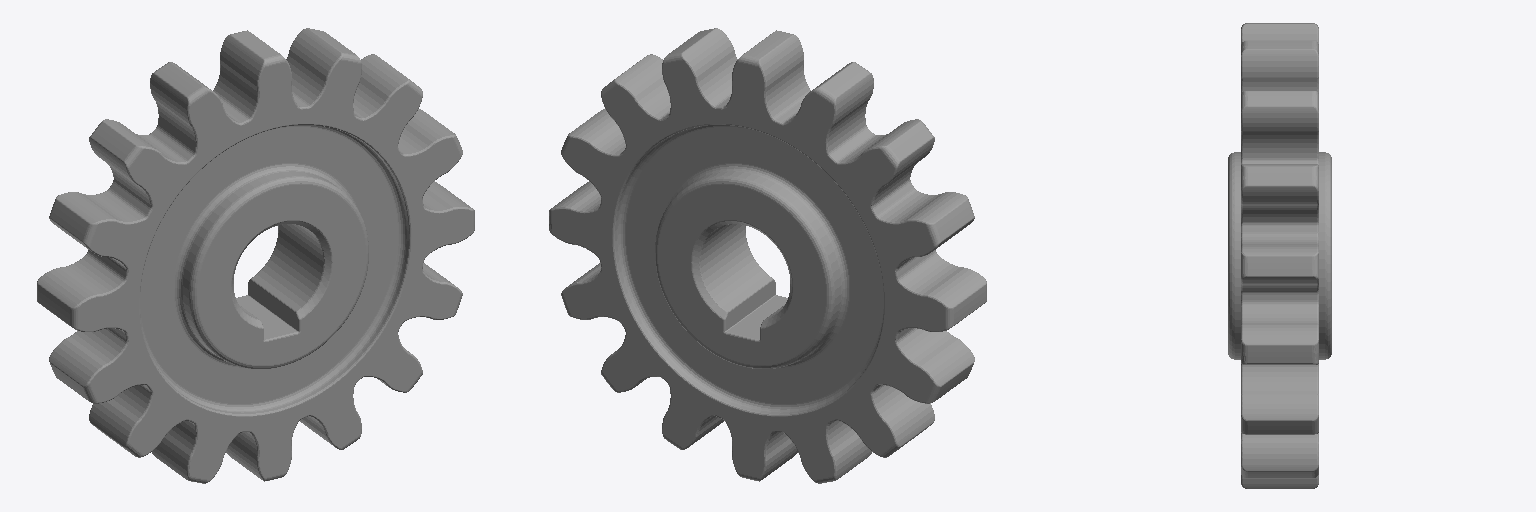
The model's file is Gear.obj.
3 views of the same model, side by side, from view 1: azimuth 30°, elevation 25°; view 2: azimuth 150°, elevation 25°; view 3: azimuth 270°, elevation 25° (orthographic).
Parts seen in each view (by area): view 1: Gear_Spur_16T; view 2: Gear_Spur_16T; view 3: Gear_Spur_16T.
Boxes of the visible parts, x1=… form: Gear_Spur_16T: x1=37, y1=28, x2=474, y2=483; Gear_Spur_16T: x1=549, y1=28, x2=986, y2=483; Gear_Spur_16T: x1=1228, y1=23, x2=1331, y2=488.
Size of the model in its own units: 1.12 by 1.12 by 0.25.